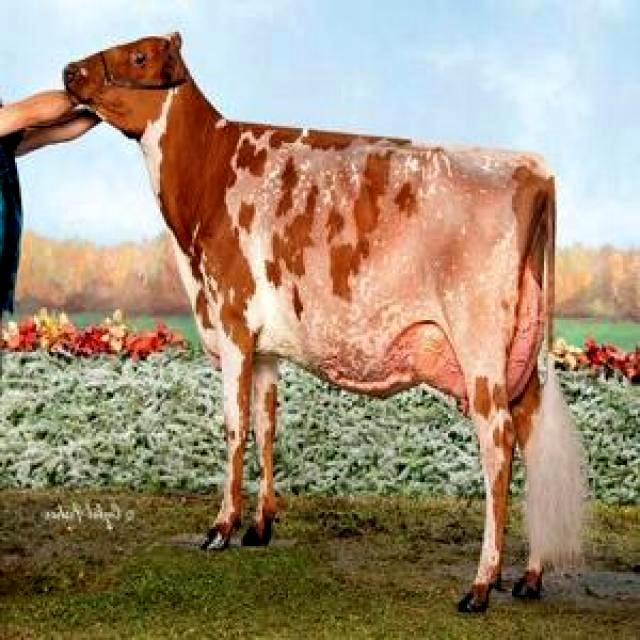COW: (62, 34, 581, 612)
